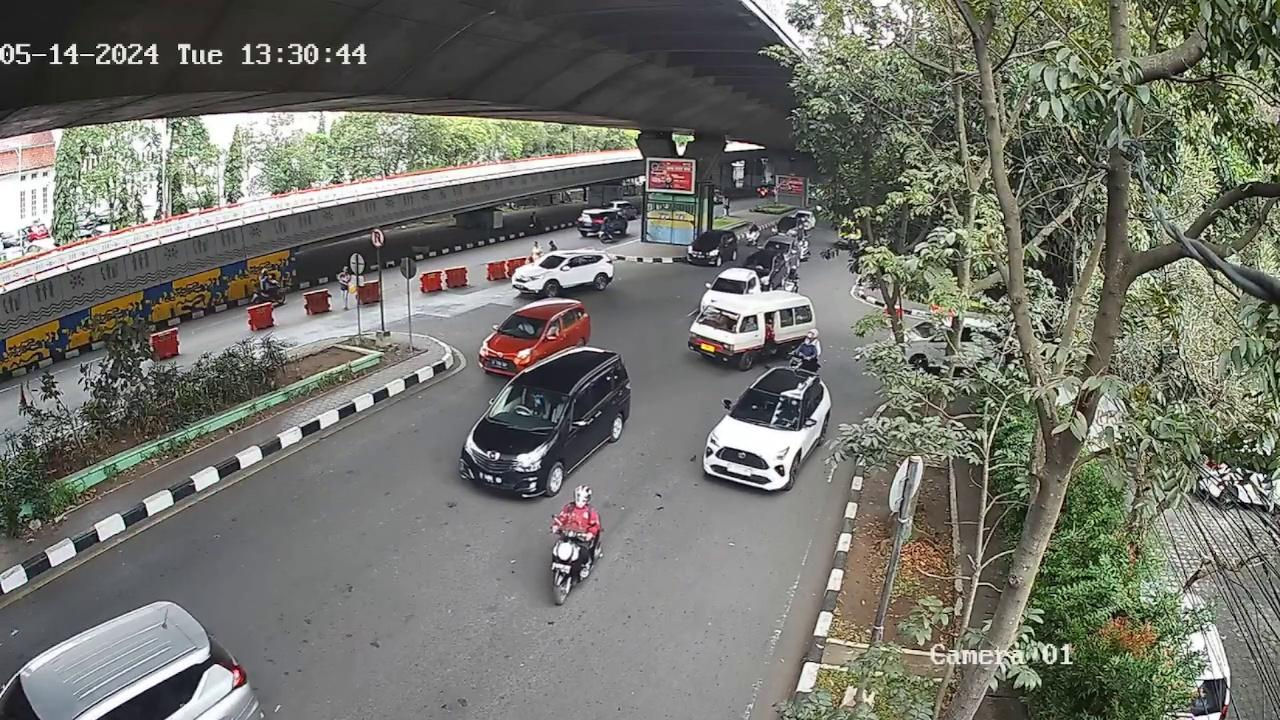pakai: (513, 319, 534, 334)
windshield: (487, 379, 576, 431), (732, 386, 806, 425), (698, 305, 742, 335), (502, 312, 545, 340)
